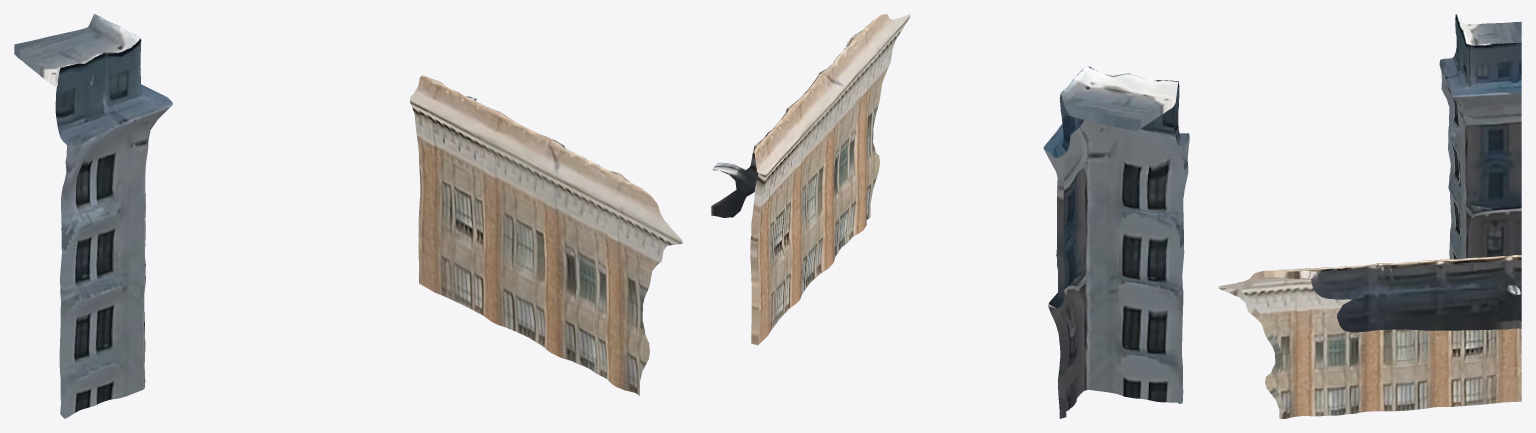
The model's file is z20-167758-405238-h1-yup-uvflip-v3-world.glb.
3 renders of one model, left to right at view 1: azimuth 30°, elevation 25°; view 2: azimuth 150°, elevation 25°; view 3: azimuth 270°, elevation 25°, orthographic. The views are drawn at different scales.
Size of the model in its own units: 30.16 by 22.16 by 24.52.
Materials: 1 (1 with a texture image).
